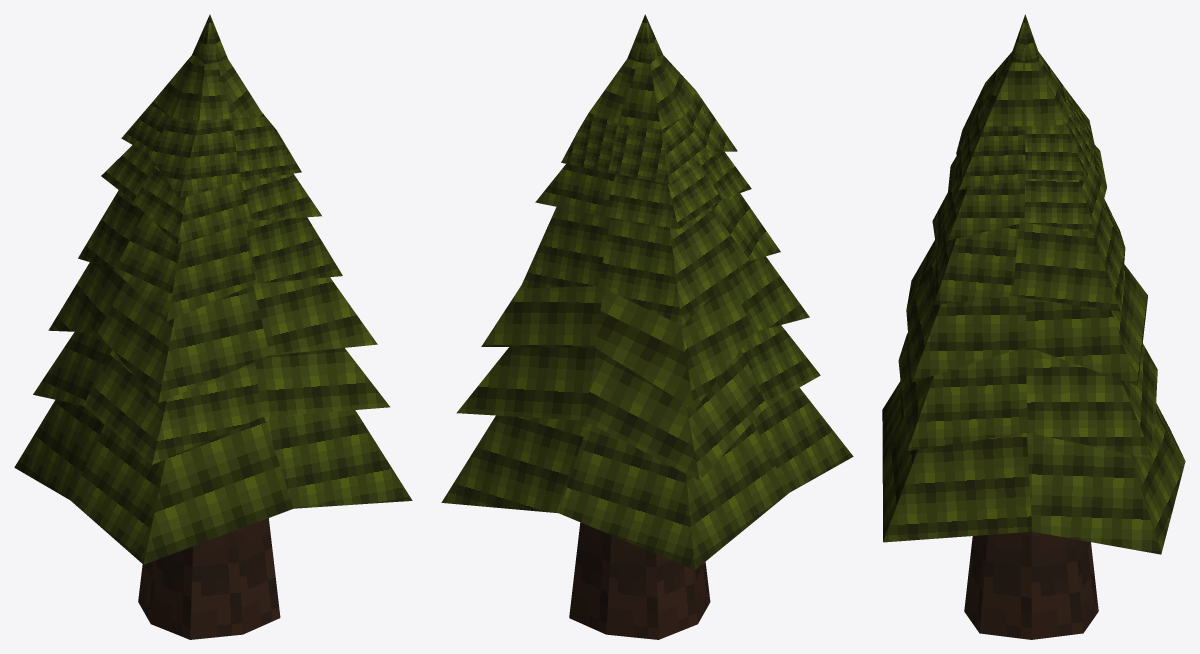
File: Sapin.glb
The picture shows the model from 3 angles, left to right: view 1: azimuth 30°, elevation 25°; view 2: azimuth 150°, elevation 25°; view 3: azimuth 270°, elevation 25°; orthographic projection.
Parts seen in each view (by area): view 1: Plane.133, Plane.134; view 2: Plane.133, Plane.134; view 3: Plane.133, Plane.134.
Boxes of the visible parts, <box> form: Plane.133: <box>14,14,412,564</box>; Plane.134: <box>138,518,280,639</box>; Plane.133: <box>441,14,853,569</box>; Plane.134: <box>569,522,710,639</box>; Plane.133: <box>882,14,1185,554</box>; Plane.134: <box>964,531,1098,639</box>.
Bounding box in the file's own units: 1.42 × 2.87 × 1.32.
2 materials, 2 textured.
